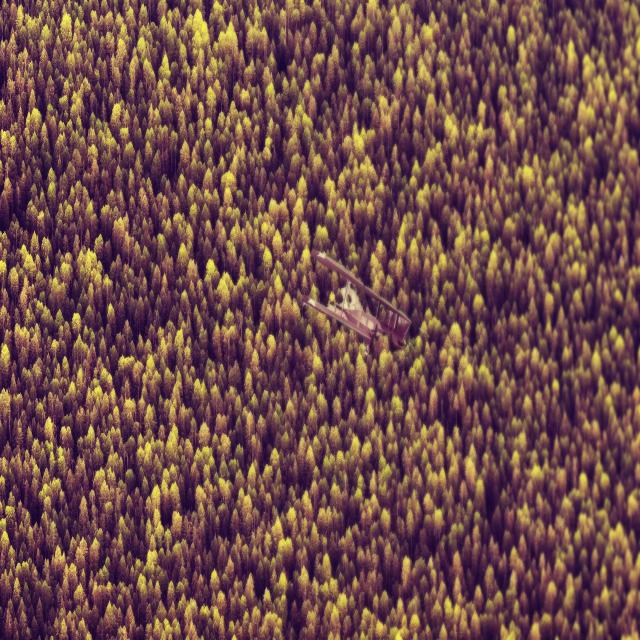airplane: (302, 248, 412, 354)
